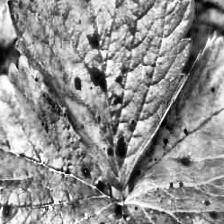Leaf Spot: (6, 0, 196, 194), (0, 53, 122, 224), (118, 30, 224, 223)
